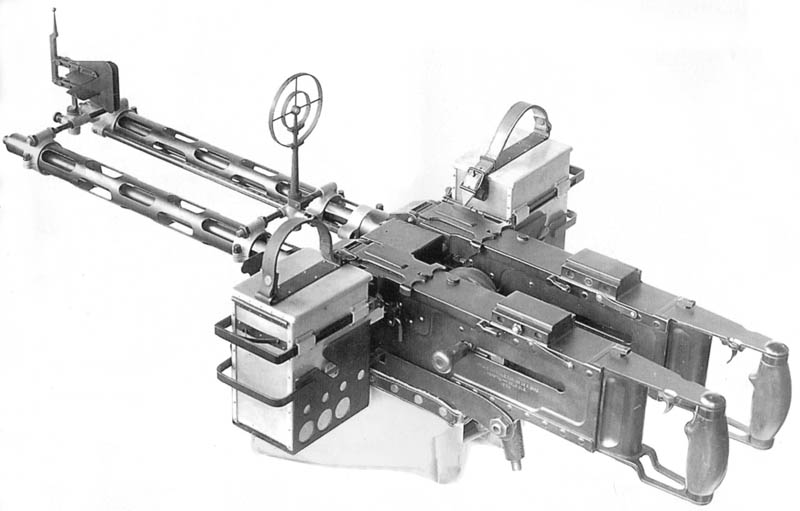rifle: (15, 16, 793, 484)
